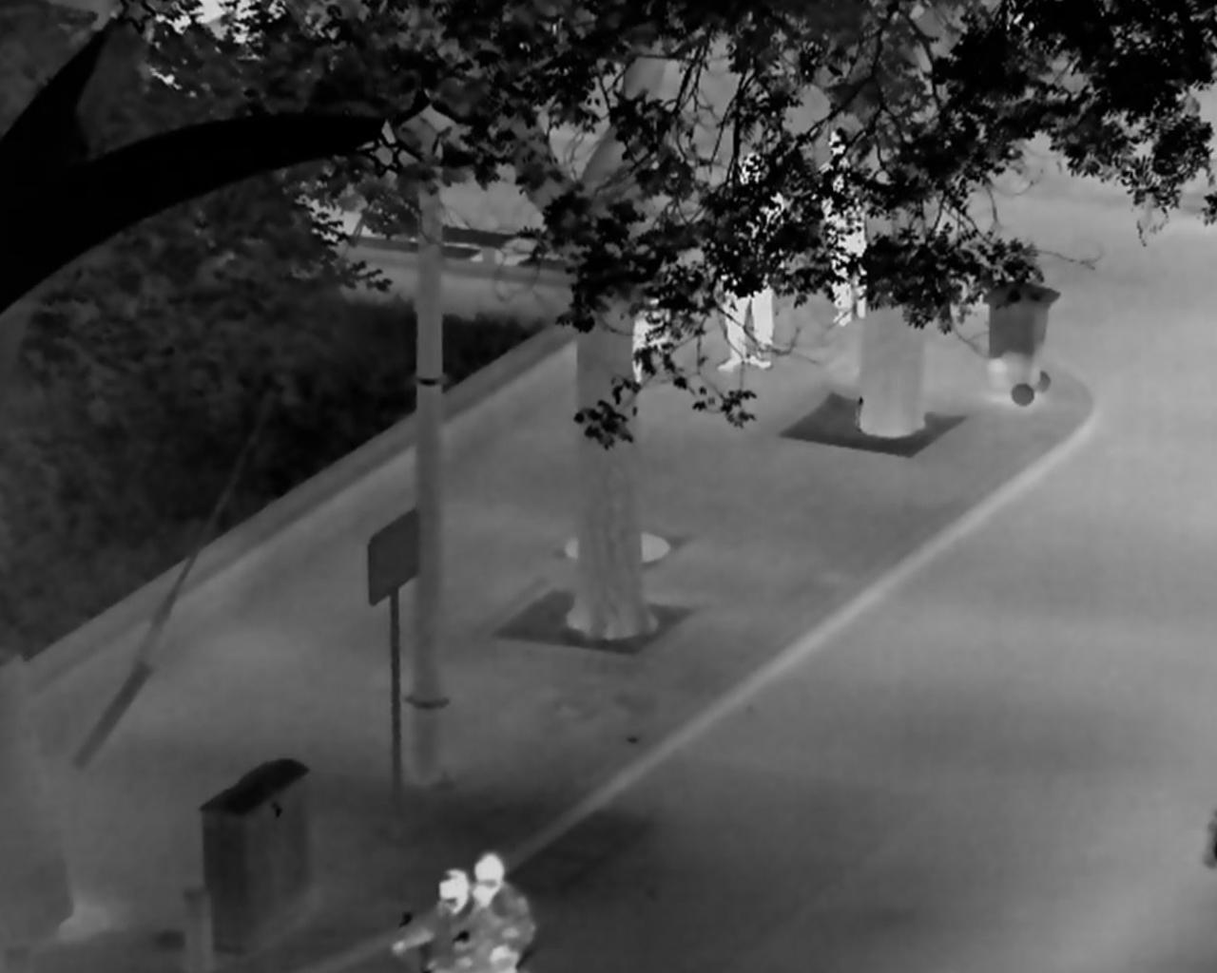person: (710, 152, 786, 373), (389, 868, 494, 973), (815, 127, 865, 327), (469, 850, 537, 973)
